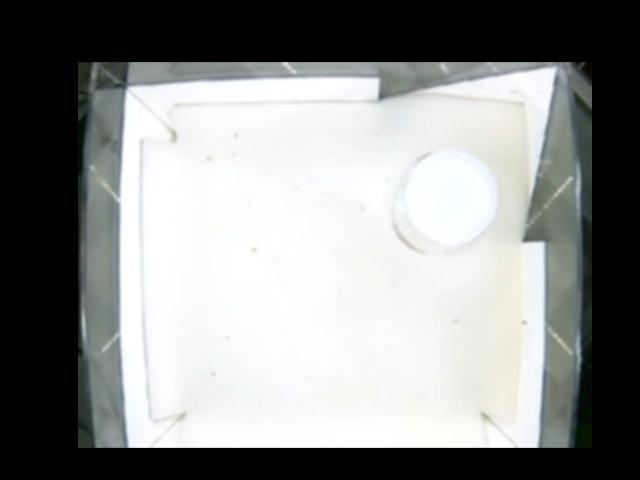Bottle: (388, 148, 498, 256)
